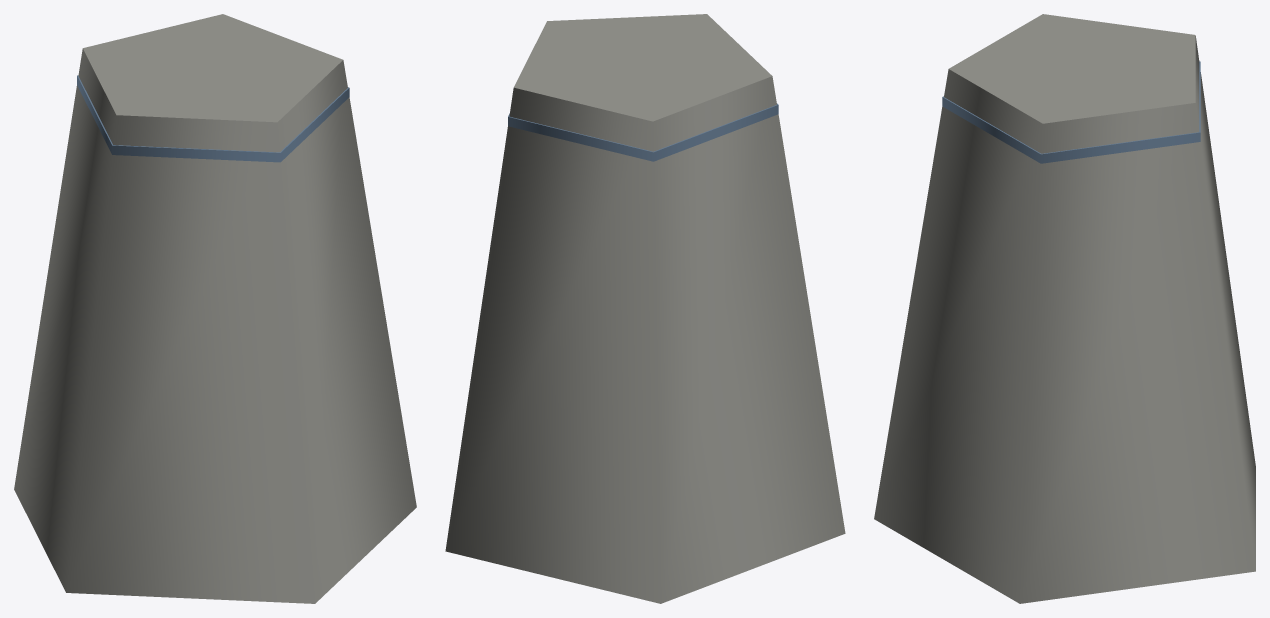
File: marker.glb
3 views of the same model, side by side, from view 1: azimuth 30°, elevation 25°; view 2: azimuth 150°, elevation 25°; view 3: azimuth 270°, elevation 25° (orthographic).
Visible parts, largest first — view 1: marker; view 2: marker; view 3: marker.
Boxes of the visible parts, x1,y1,x2,y2 form: marker: (14,14,416,603); marker: (445,14,845,603); marker: (874,14,1255,603).
Bounding box in the file's own units: 0.3234 × 0.4 × 0.3075.
